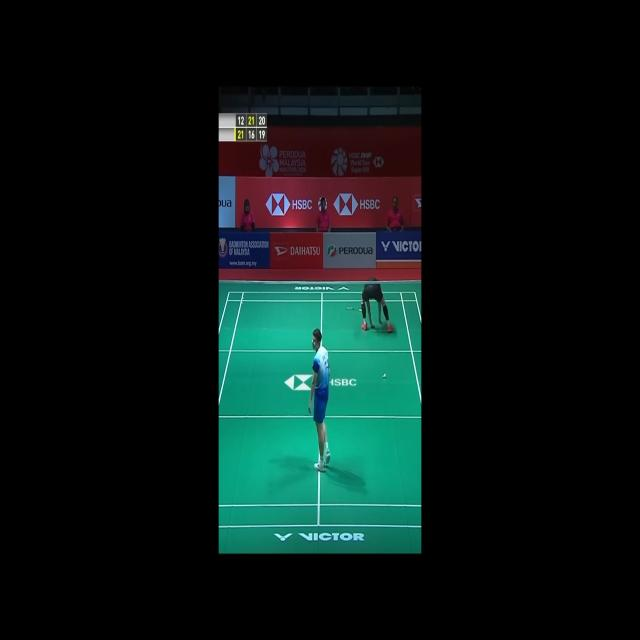shuttle-P15u: (383, 375, 387, 380)
